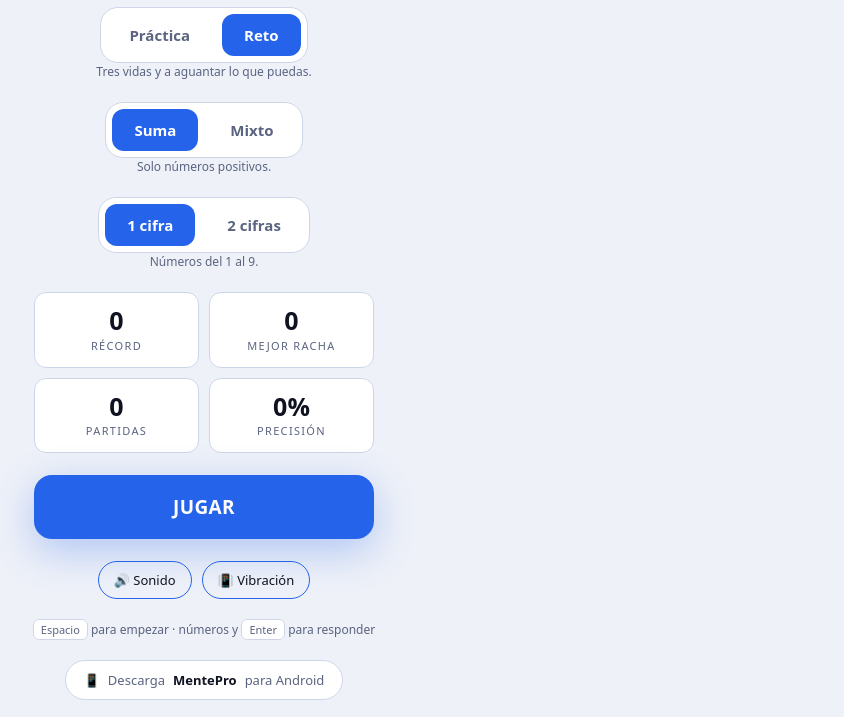
Test: MenteRush end to end › tres fallos llevan al game over y el récord queda guardado
(page scrolled)
Click the button "JUGAR".
click(204, 507)  # box [34,475,374,539]
Wait 35200 ms
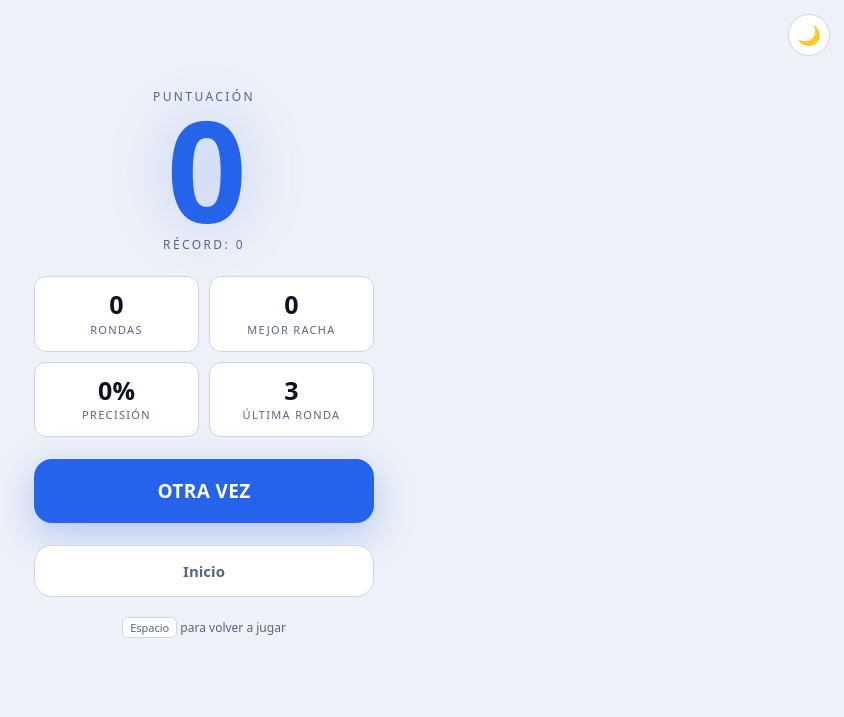
Now the button "OTRA VEZ" is shown, box [34,459,374,523]
